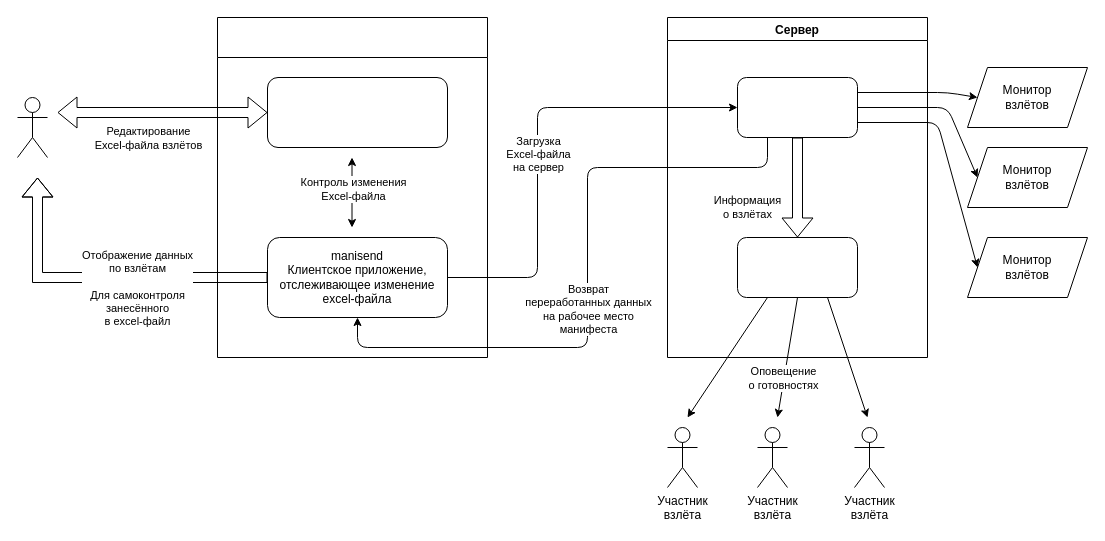
Some shapes in this 1105 by 541 pixel diagram are drawn without their labels. Each missing label, with the box of its shape:
Excel с открытым документом взлётов на текущий день: (266, 76, 448, 148)
Telegram-бот: (736, 236, 858, 298)
Обработчик Excel-файла: (736, 76, 858, 138)
Рабочий компьютер на манифесте: (216, 16, 488, 358)
